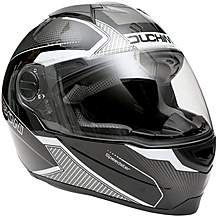with_helmet: (2, 1, 216, 217)
